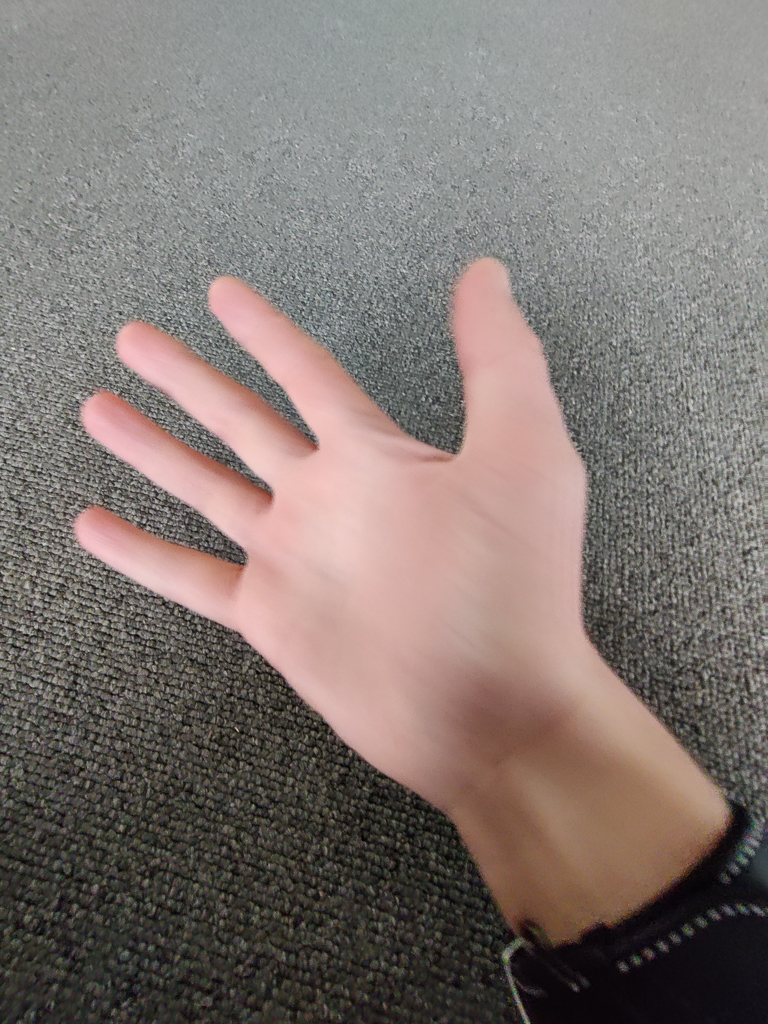Humanoid: (63, 249, 768, 1024)
